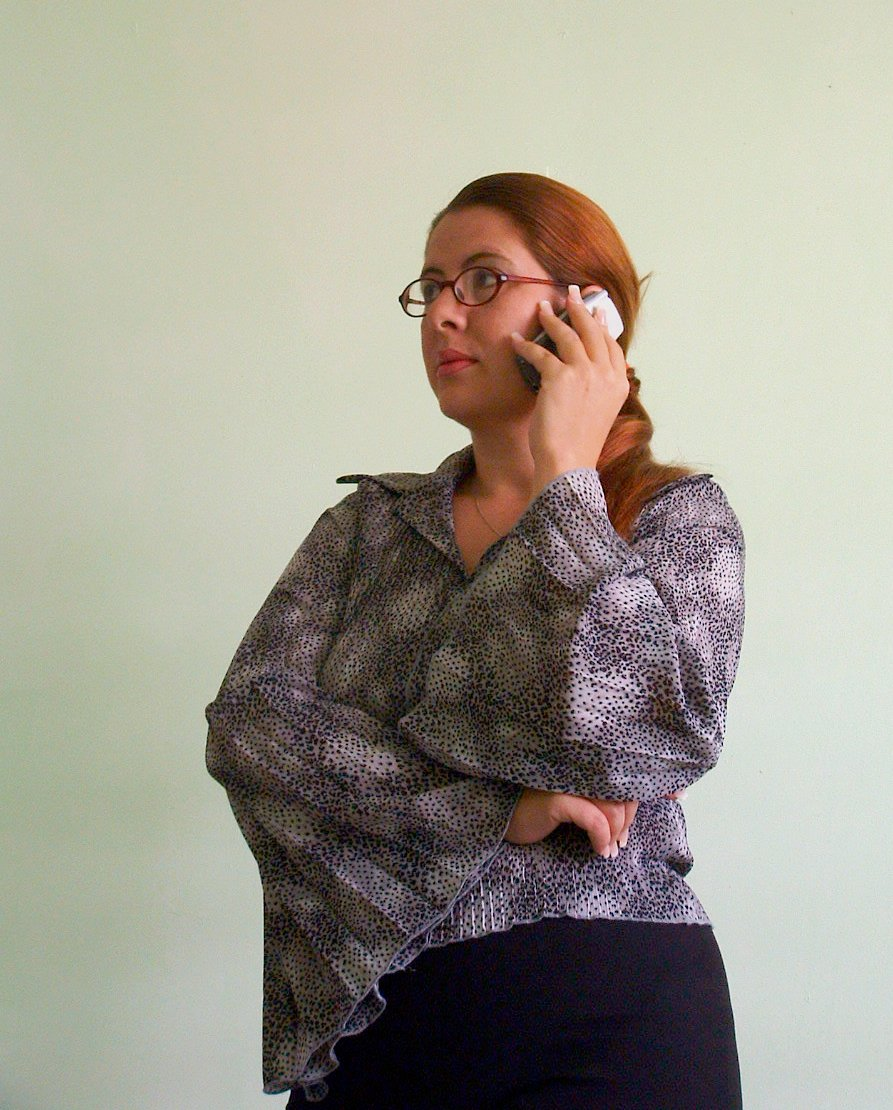phone: (526, 284, 617, 395)
talk: (407, 246, 628, 469)
